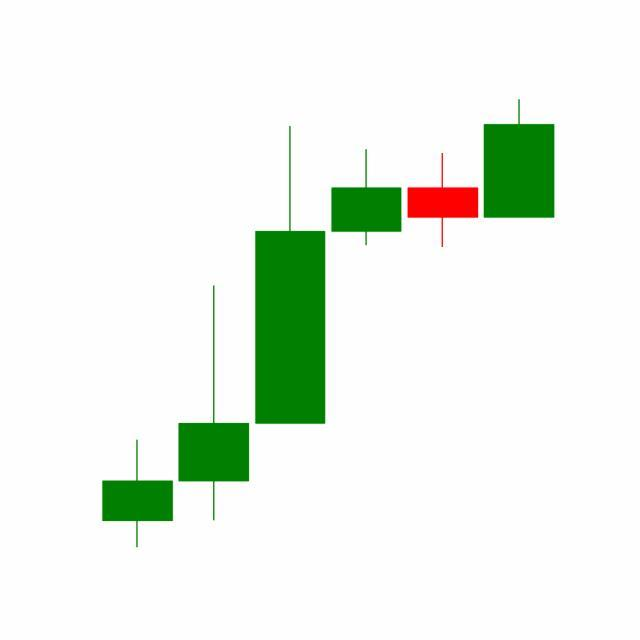Spinning Top: (404, 152, 482, 249)
